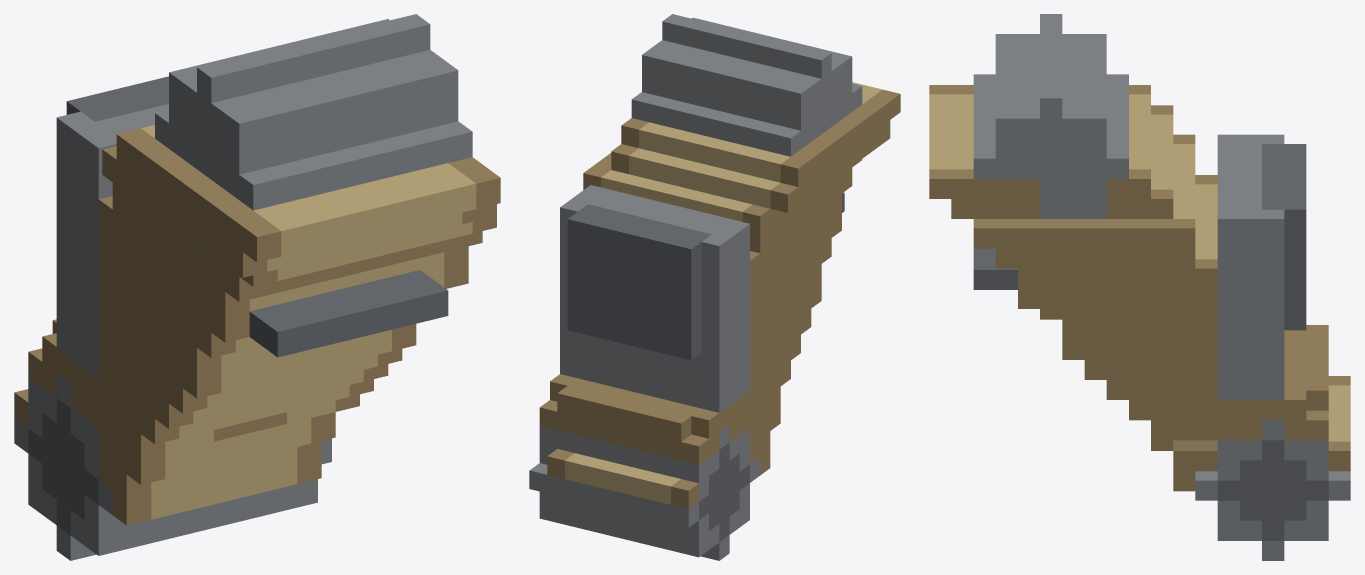
The model's file is shin_l.glb.
3 renders of one model, left to right at view 1: azimuth 30°, elevation 25°; view 2: azimuth 150°, elevation 25°; view 3: azimuth 270°, elevation 25°, orthographic. The views are drawn at different scales.
Bounding box in the file's own units: 11 × 23 × 19.
